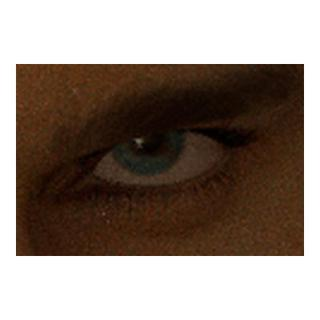pupil: (131, 121, 162, 151)
